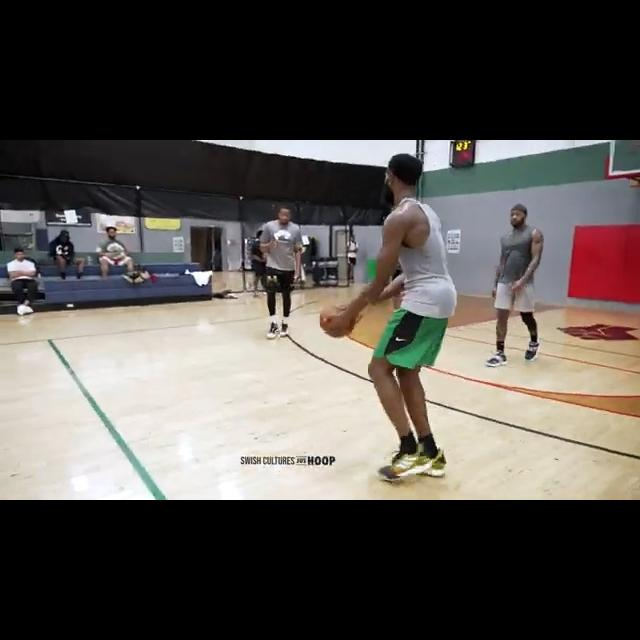basketball: (319, 301, 358, 339)
person: (362, 152, 461, 483), (485, 205, 546, 369), (260, 205, 304, 337), (43, 226, 87, 281), (7, 241, 37, 316), (94, 226, 137, 277), (248, 226, 263, 298), (347, 233, 359, 284)
